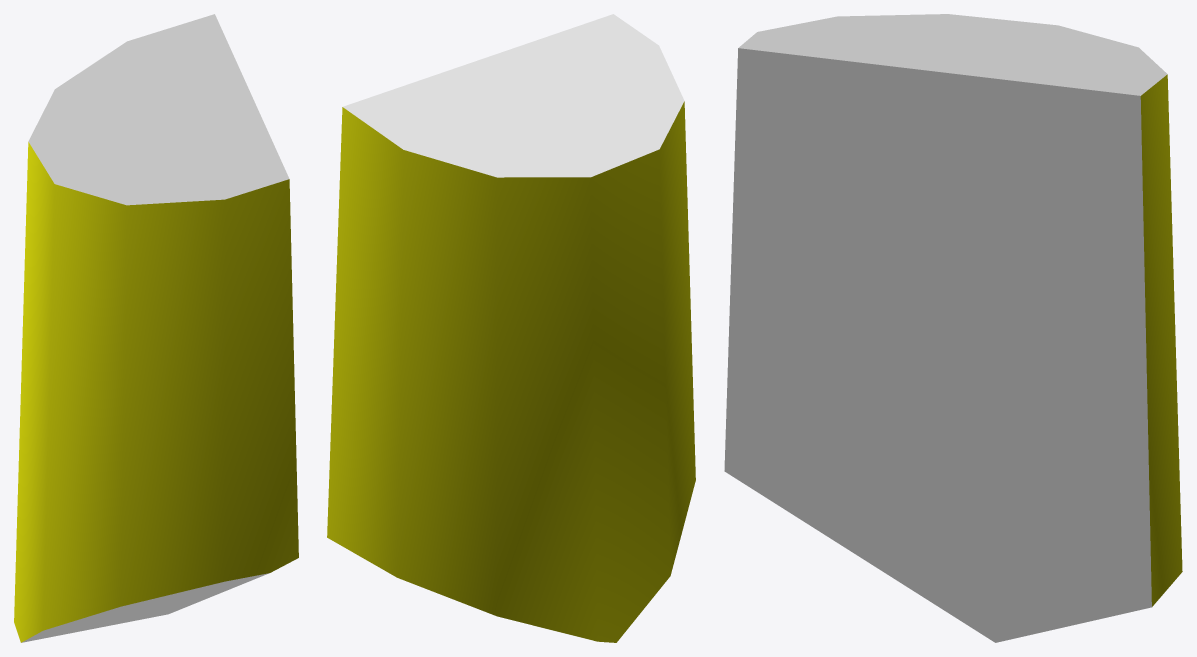
Rendered from mdl_ciudadela_casa_pilar1_fracturepart3.fbx.
The picture shows the model from 3 angles, left to right: view 1: azimuth 30°, elevation 25°; view 2: azimuth 150°, elevation 25°; view 3: azimuth 270°, elevation 25°; orthographic projection. The views are drawn at different scales.
Visible parts, largest first — view 1: mdl_ciudadela_casa_pilar1_fracturepart3; view 2: mdl_ciudadela_casa_pilar1_fracturepart3; view 3: mdl_ciudadela_casa_pilar1_fracturepart3.
Part boxes in pixels (x1,y1,x2,y2): mdl_ciudadela_casa_pilar1_fracturepart3: [14, 14, 298, 642]; mdl_ciudadela_casa_pilar1_fracturepart3: [327, 14, 695, 642]; mdl_ciudadela_casa_pilar1_fracturepart3: [724, 14, 1182, 642].
Size of the model in its own units: 0.5382 by 1.03 by 0.7073.
